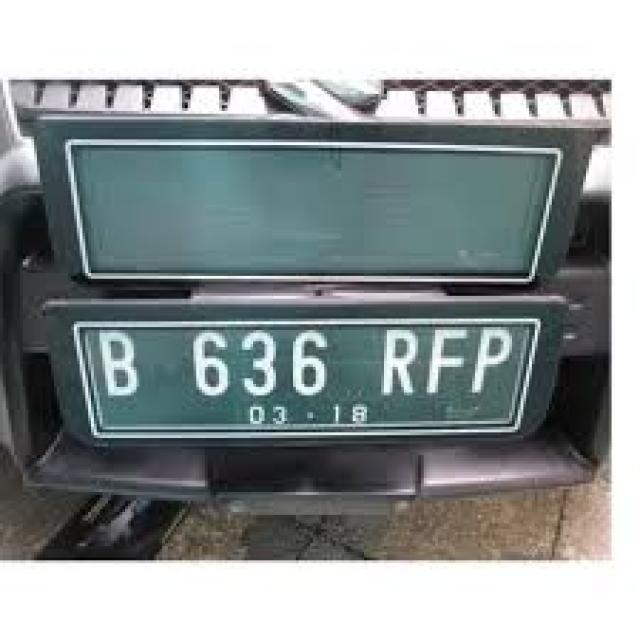lisence-plate: (68, 308, 546, 448)
